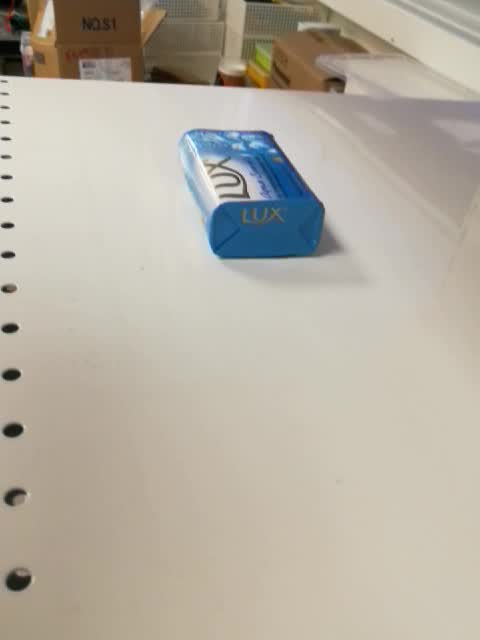soap: (176, 128, 328, 260)
